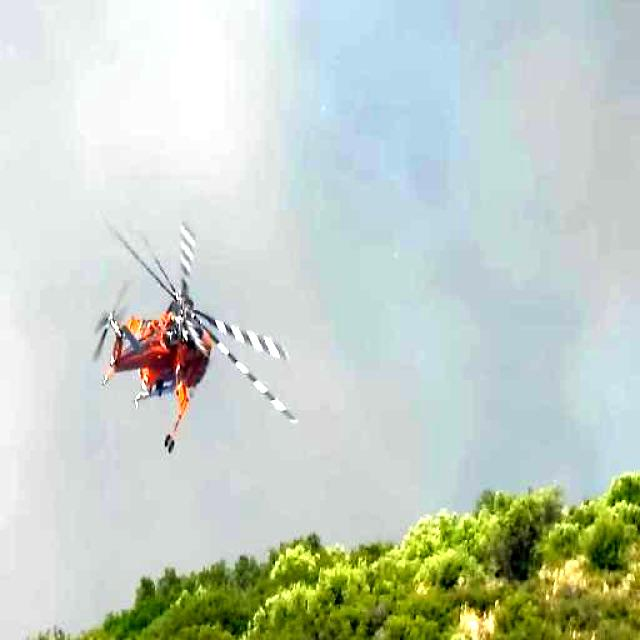drone: (68, 181, 310, 479)
